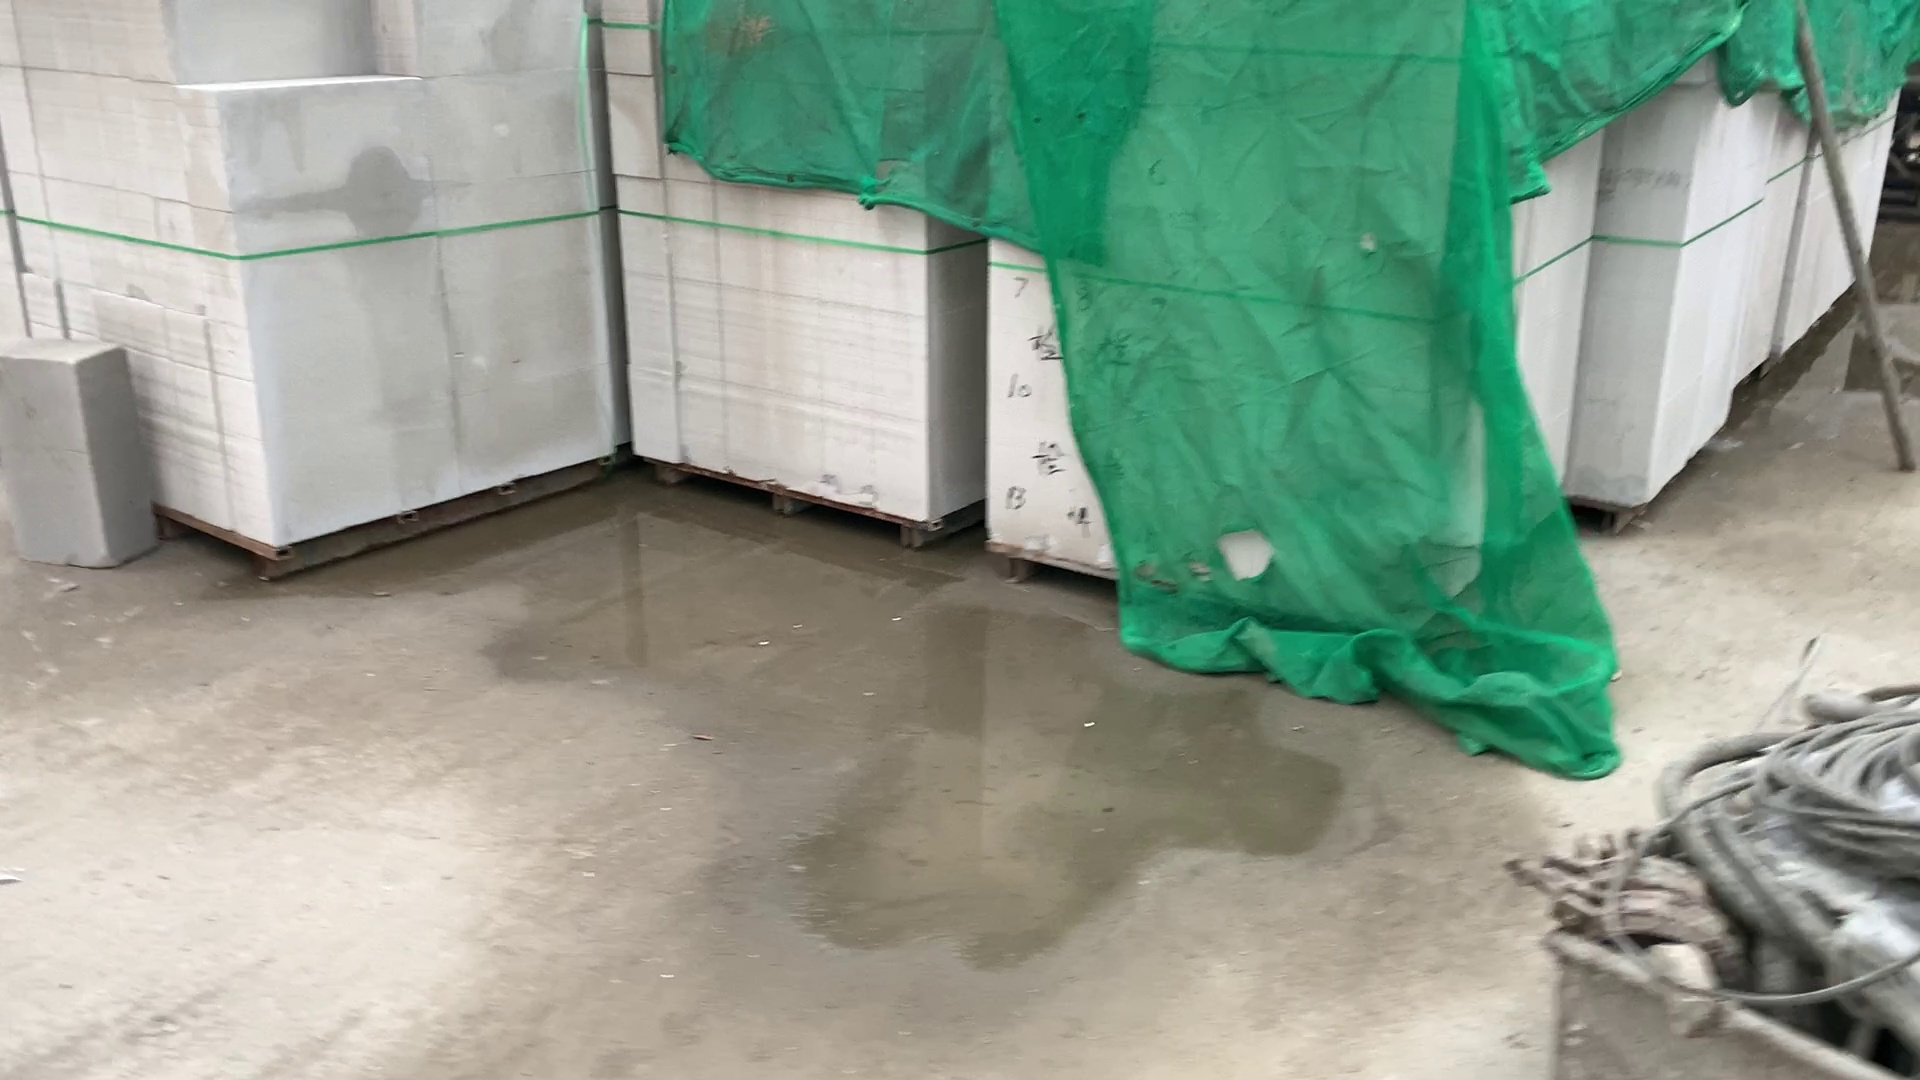brickwork: (7, 3, 618, 537), (980, 7, 1437, 620), (607, 1, 953, 541), (1597, 29, 1718, 549), (1792, 53, 1876, 349)
